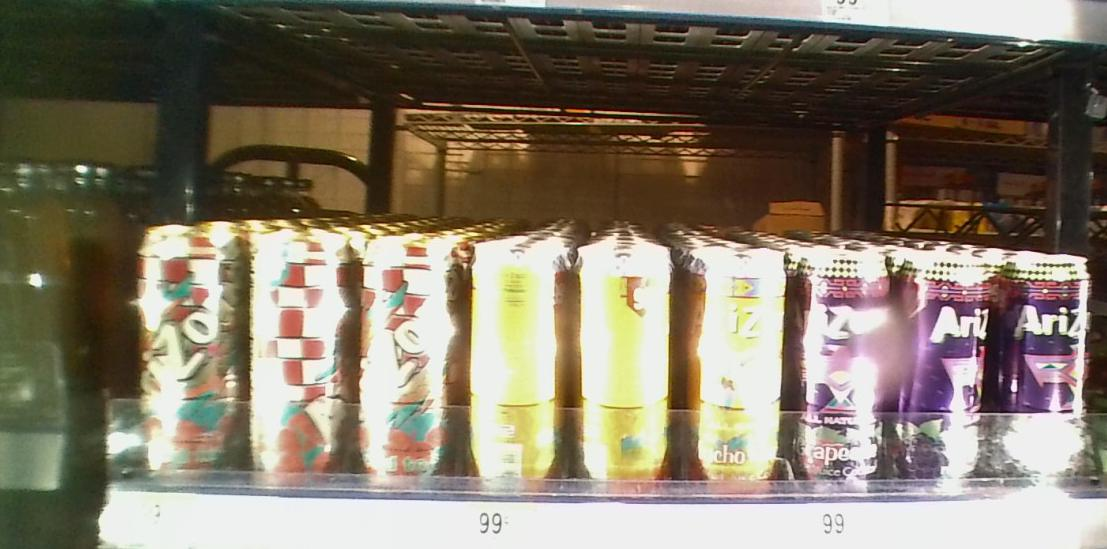bottle: (130, 208, 242, 465), (241, 221, 350, 474), (558, 244, 671, 478), (685, 248, 793, 483), (350, 238, 455, 475), (458, 236, 558, 476), (889, 244, 984, 482), (998, 241, 1088, 482), (802, 248, 887, 480)
